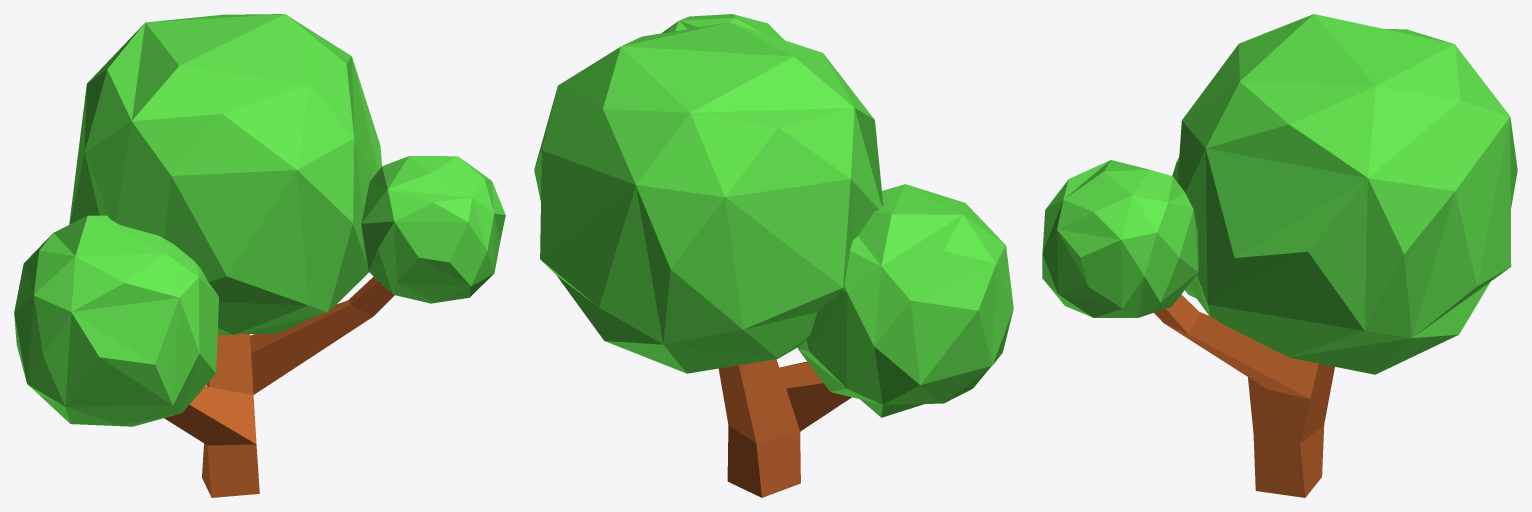
File: tree_1.fbx
3 views of the same model, side by side, from view 1: azimuth 30°, elevation 25°; view 2: azimuth 150°, elevation 25°; view 3: azimuth 270°, elevation 25° (orthographic). The views are drawn at different scales.
Parts seen in each view (by area): view 1: tree_1; view 2: tree_1; view 3: tree_1.
Boxes of the visible parts, x1,y1,x2,y2 form: tree_1: (14, 14, 505, 497); tree_1: (534, 14, 1013, 497); tree_1: (1042, 14, 1517, 497).
Size of the model in its own units: 372 by 378 by 362.
